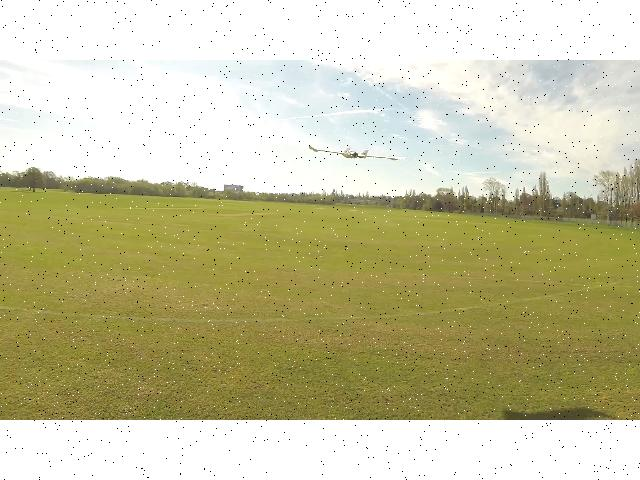Anti-Drone: (300, 131, 412, 172)
